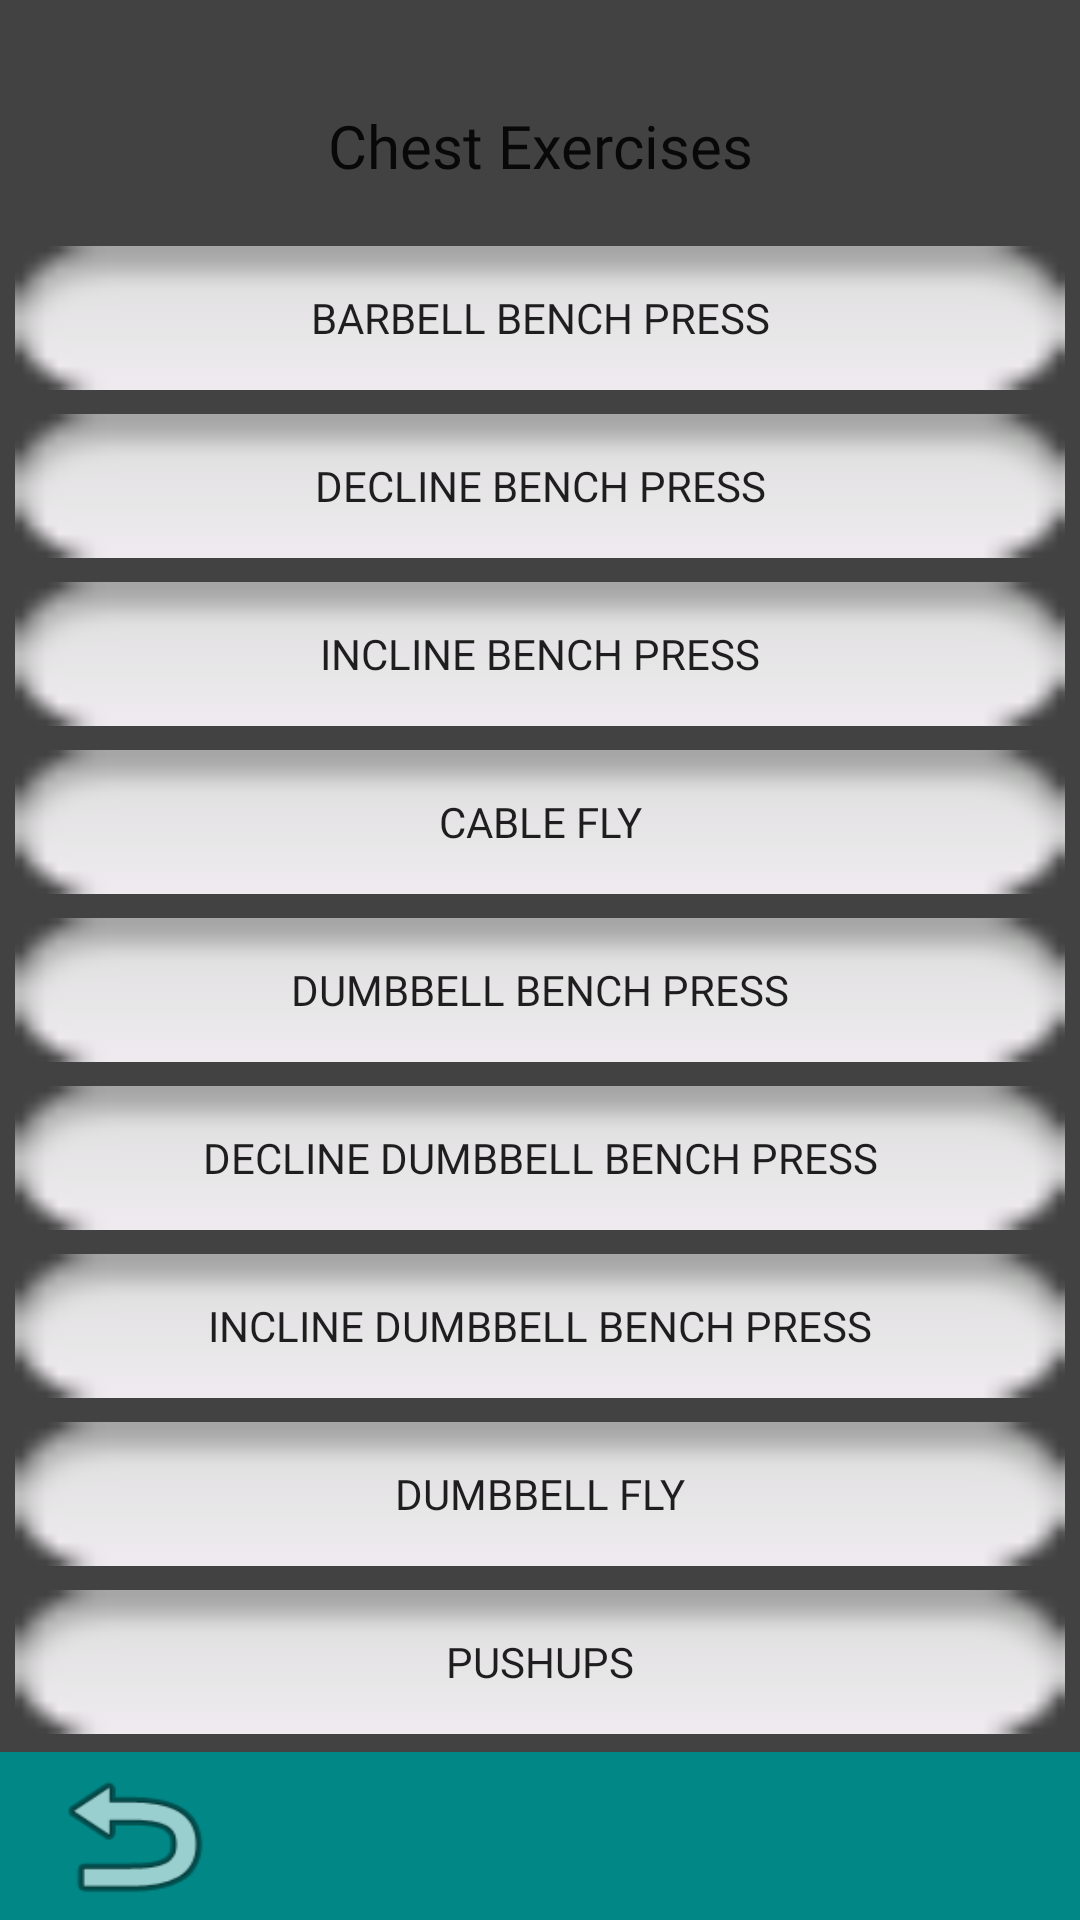

Point at icon controls on the screen. Image size 1080*1920, points as point (x, y).
revert: point (135, 1837)
